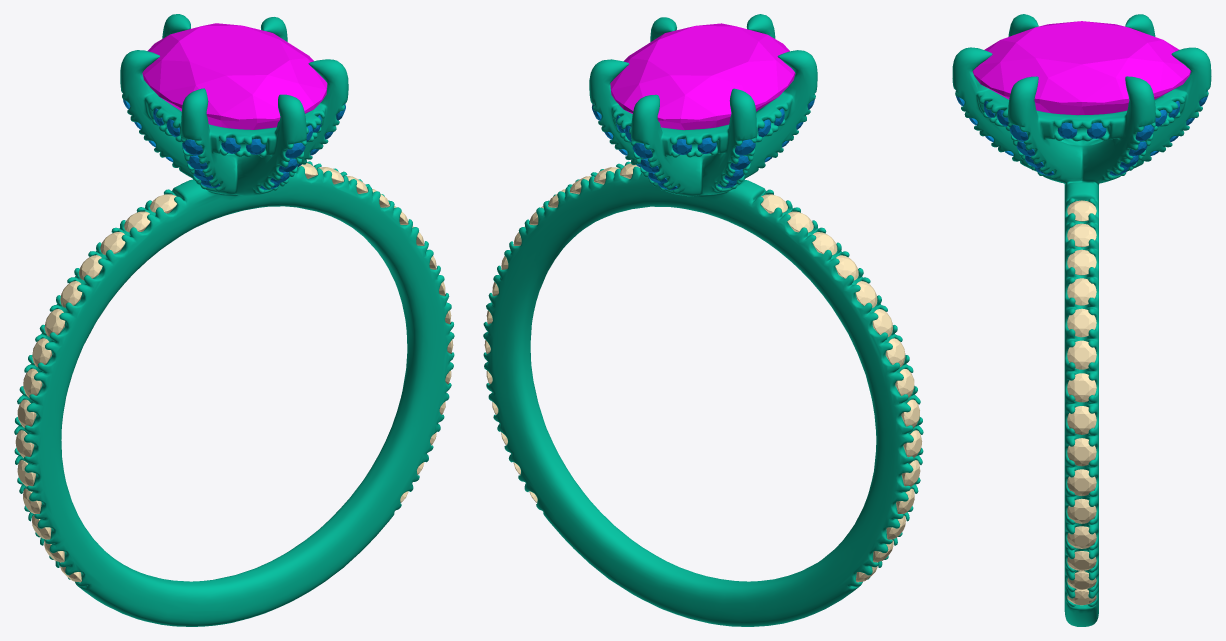
The model's file is BE1D4982_OV_200ct_RENDER.glb.
The picture shows the model from 3 angles, left to right: view 1: azimuth 30°, elevation 25°; view 2: azimuth 150°, elevation 25°; view 3: azimuth 270°, elevation 25°; orthographic projection.
Parts seen in each view (by area): view 1: Metal 01, CS_Diamond_Oval; view 2: Metal 01, CS_Diamond_Oval; view 3: Metal 01, CS_Diamond_Oval, Diamond_Round_Gem_SH.020, Diamond_Round_Gem_SH.021, Diamond_Round_Gem_SH.022, Diamond_Round_Gem_SH.019, Diamond_Round_Gem_SH.023, Diamond_Round_Gem_SH.018, Diamond_Round_Gem_SH.024, Diamond_Round_Gem_SH.017, Diamond_Round_Gem_SH.025, Diamond_Round_Gem_SH.016 (+4 smaller).
Boxes of the visible parts, x1,y1,x2,y2 form: Metal 01: [14, 14, 454, 626]; CS_Diamond_Oval: [142, 23, 327, 129]; Metal 01: [483, 14, 923, 626]; CS_Diamond_Oval: [610, 23, 795, 130]; Metal 01: [952, 14, 1211, 626]; CS_Diamond_Oval: [972, 21, 1191, 115]; Diamond_Round_Gem_SH.020: [1067, 340, 1096, 369]; Diamond_Round_Gem_SH.021: [1067, 373, 1096, 402]; Diamond_Round_Gem_SH.022: [1067, 406, 1096, 434]; Diamond_Round_Gem_SH.019: [1067, 308, 1096, 337]; Diamond_Round_Gem_SH.023: [1067, 438, 1096, 466]; Diamond_Round_Gem_SH.018: [1067, 278, 1096, 305]; Diamond_Round_Gem_SH.024: [1067, 469, 1096, 495]; Diamond_Round_Gem_SH.017: [1067, 249, 1096, 275]; Diamond_Round_Gem_SH.025: [1067, 498, 1096, 523]; Diamond_Round_Gem_SH.016: [1067, 223, 1096, 247].
Bounding box in the file's own units: 20.13 × 25.41 × 10.63.
